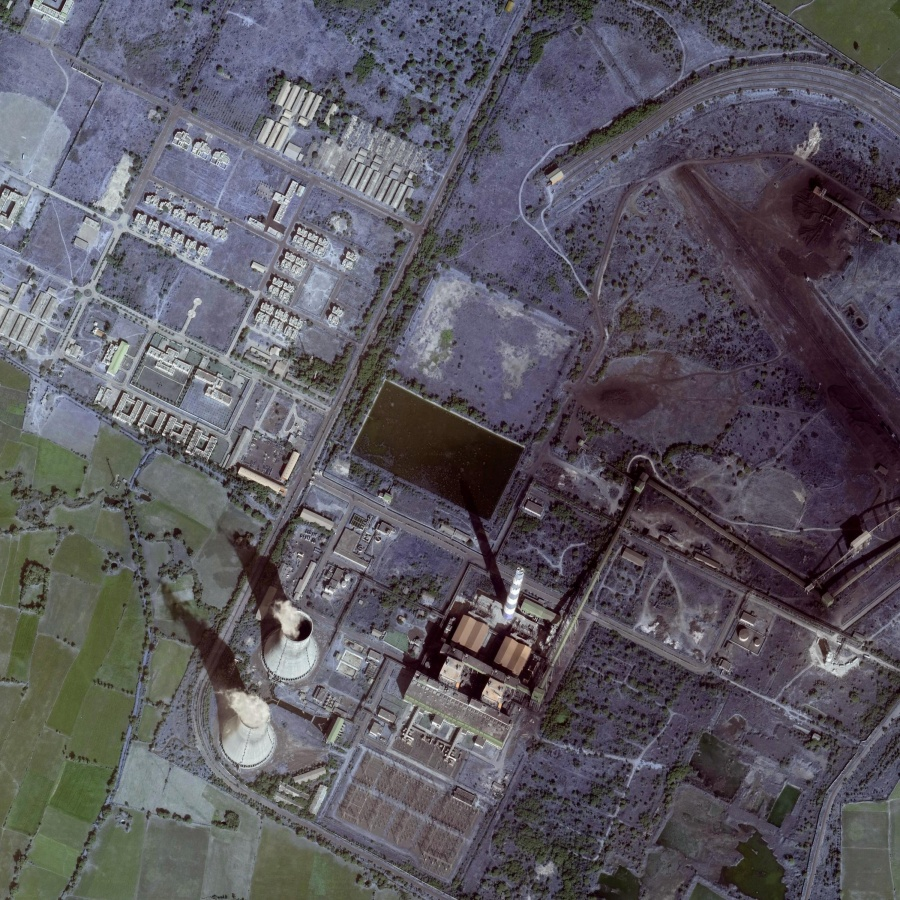PowerPlant: (187, 364, 624, 822)
